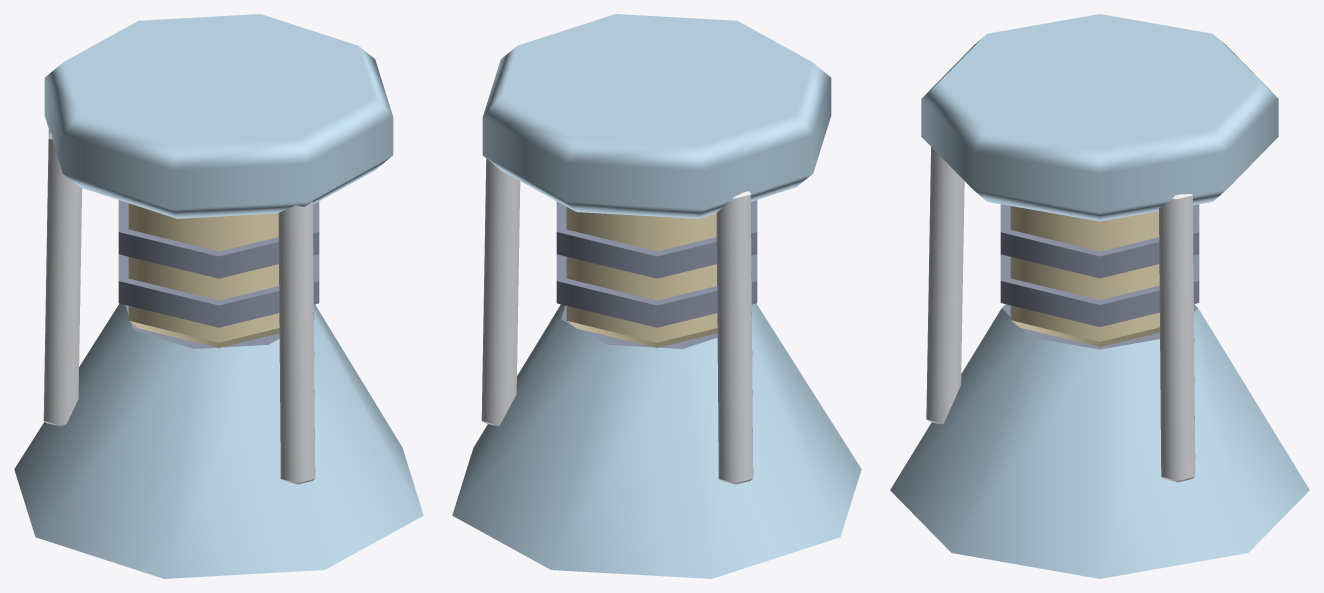
The model's file is R4X_JumpDrive_LOD1.glb.
3 renders of one model, left to right at view 1: azimuth 30°, elevation 25°; view 2: azimuth 150°, elevation 25°; view 3: azimuth 270°, elevation 25°, orthographic.
Visible parts, largest first — view 1: R4X_JumpDrive_LOD1; view 2: R4X_JumpDrive_LOD1; view 3: R4X_JumpDrive_LOD1.
Boxes of the visible parts, x1,y1,x2,y2 form: R4X_JumpDrive_LOD1: (14,14,423,578); R4X_JumpDrive_LOD1: (452,14,861,578); R4X_JumpDrive_LOD1: (890,14,1309,578).
Size of the model in its own units: 0.47 by 0.51 by 0.47.
